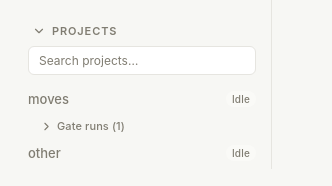
it: ProjectSidebar — Worktree Run nesting (Slice B) › search matching a child reveals its Parent and the child
The width and height of the screenshot is (332, 186).
Type "01M320" into the search field labelled "Search projects". click: (142,60)
box: [28,46,256,75]
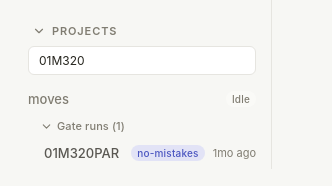
Expected: the text "01M320PAR" is shown, [44,145,123,161]
Expected: the button "other" is gone
